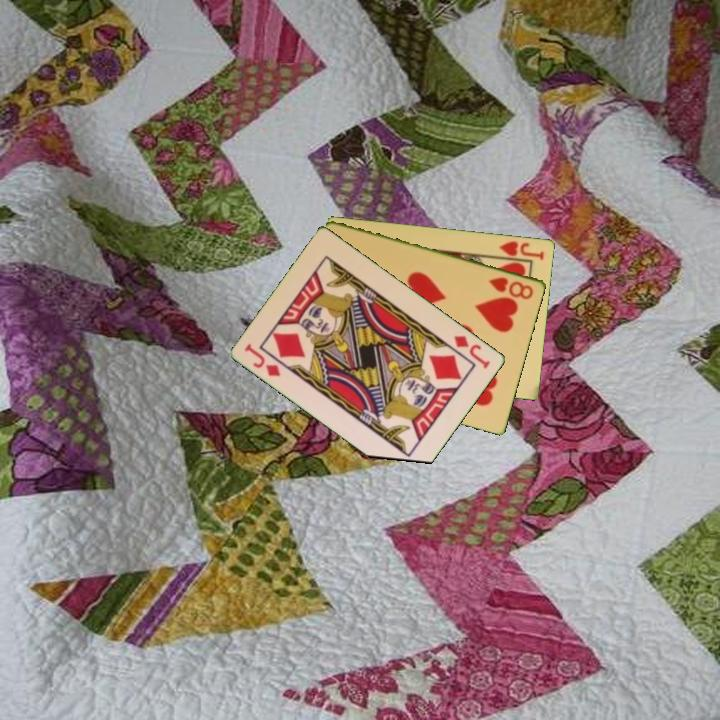8h: (485, 273, 537, 302)
Jd: (451, 332, 494, 372), (241, 340, 284, 380)
Jh: (496, 237, 547, 262)
